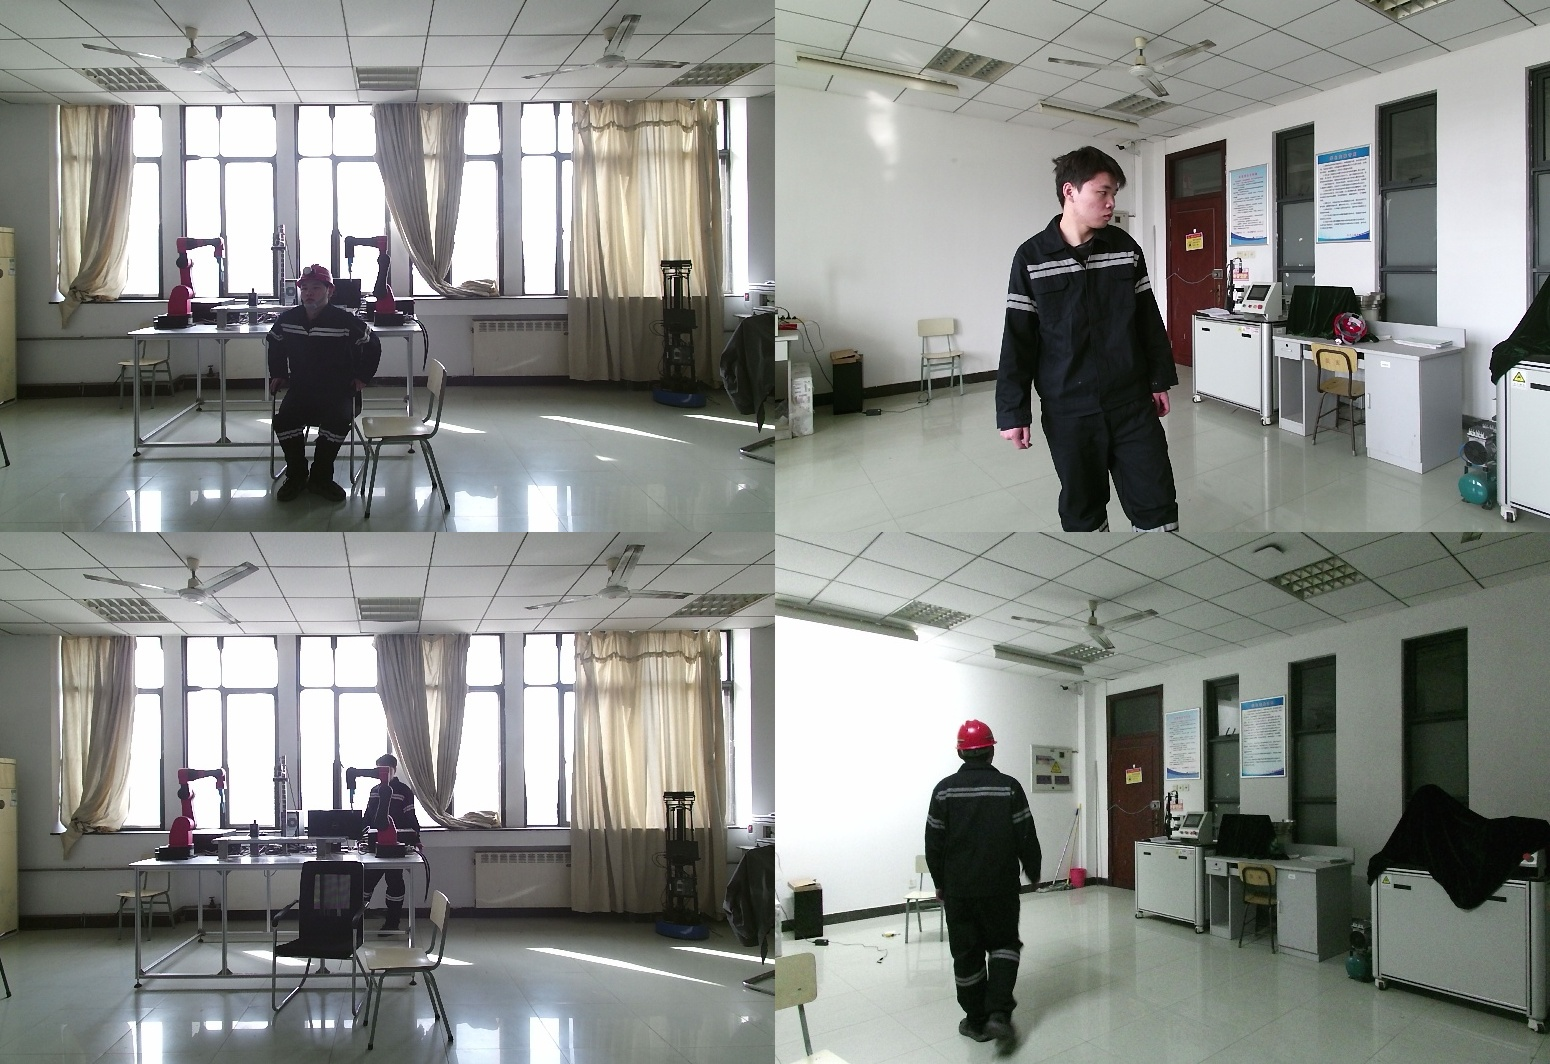person: (999, 146, 1205, 532), (925, 721, 1051, 1064), (266, 264, 390, 503), (362, 758, 422, 939)
